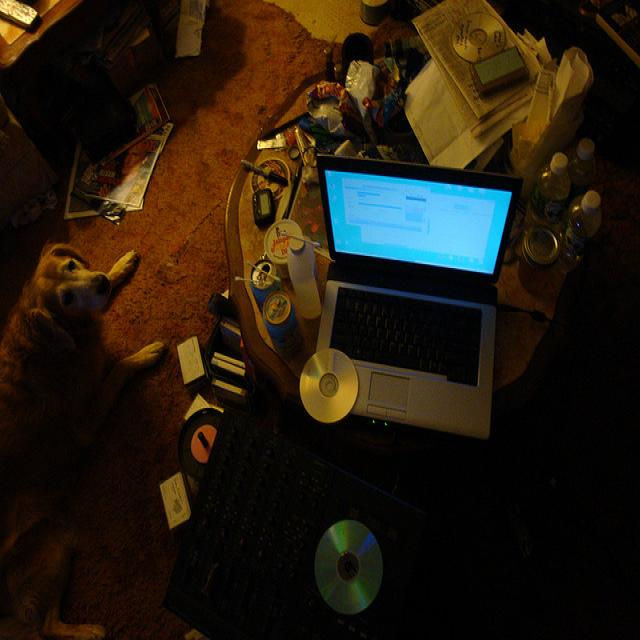Dog: (0, 193, 187, 640)
